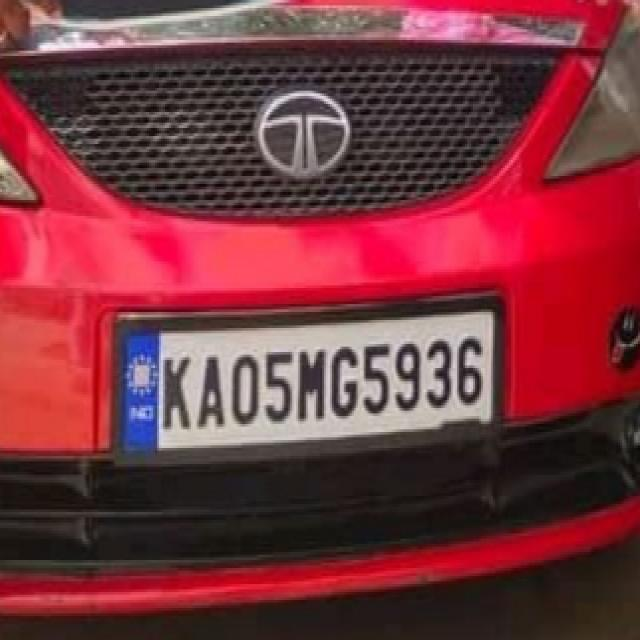0: (224, 346, 266, 434)
3: (424, 337, 453, 415)
5: (358, 336, 393, 421), (263, 341, 296, 429)
6: (456, 330, 488, 409)
9: (393, 334, 422, 418)
A: (197, 346, 226, 439)
G: (331, 342, 362, 424)
K: (158, 345, 196, 436)
M: (300, 345, 328, 428)
